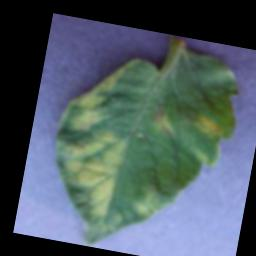Leaf_Mold: (40, 87, 135, 236), (191, 114, 226, 139)
